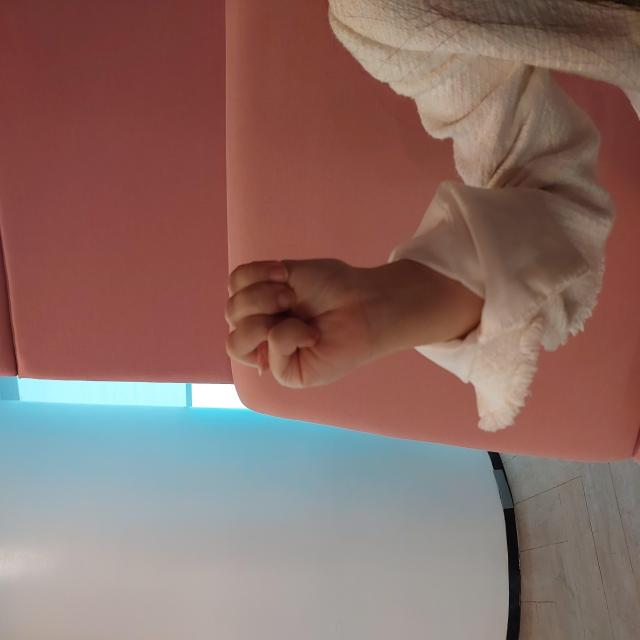M: (250, 223, 382, 347)
